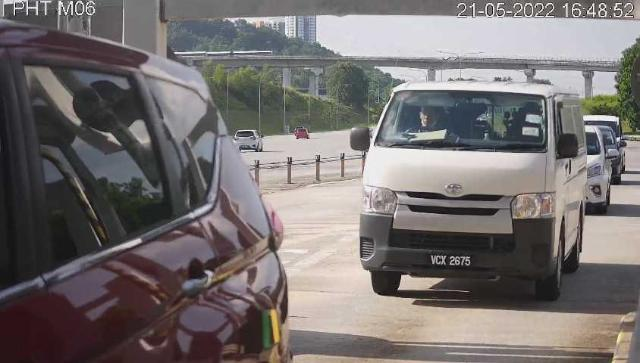License_Plate: (428, 253, 476, 274)
van: (361, 83, 588, 303)
